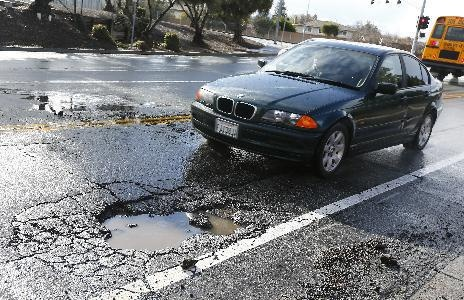pothole: (97, 193, 255, 251)
